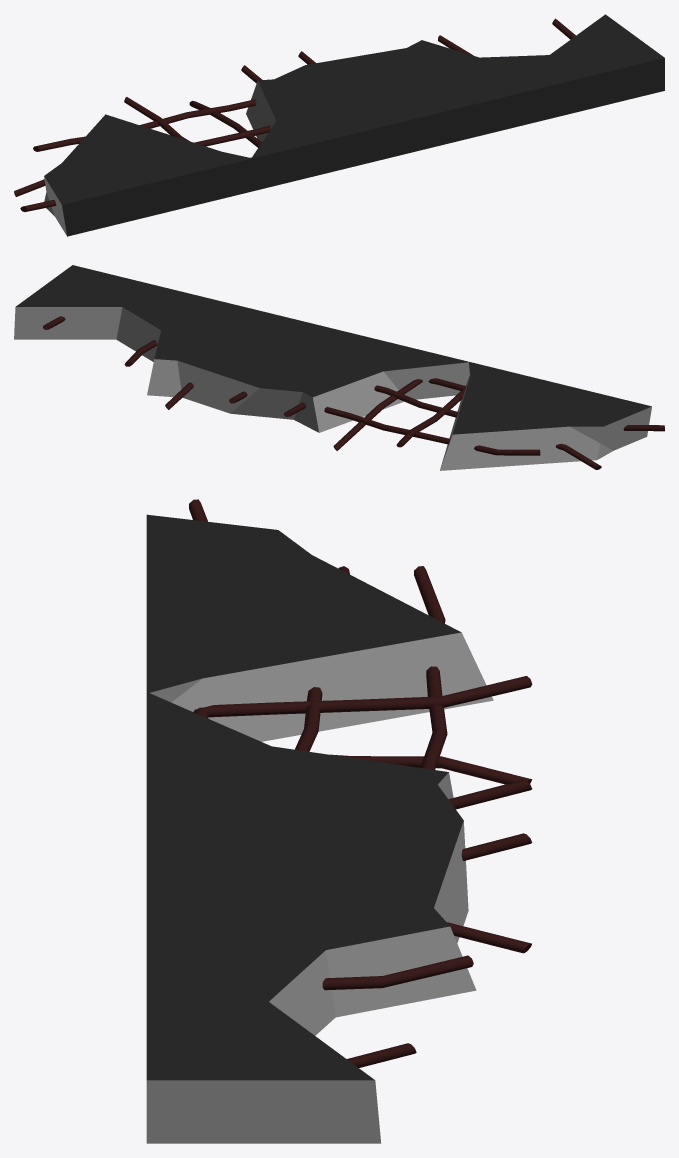
The model's file is P_DemiMurCassé.fbx.
The picture shows the model from 3 angles, top to bottom: view 1: azimuth 30°, elevation 25°; view 2: azimuth 150°, elevation 25°; view 3: azimuth 270°, elevation 25°; orthographic projection. The views are drawn at different scales.
Parts seen in each view (by area): view 1: P_DemiMurCassé; view 2: P_DemiMurCassé; view 3: P_DemiMurCassé.
Part boxes in pixels (left/top/right/bottom): P_DemiMurCassé: left=14, top=14, right=664, bottom=236; P_DemiMurCassé: left=14, top=265, right=664, bottom=470; P_DemiMurCassé: left=146, top=499, right=532, bottom=1143.
Size of the model in its own units: 601 by 30 by 166.
